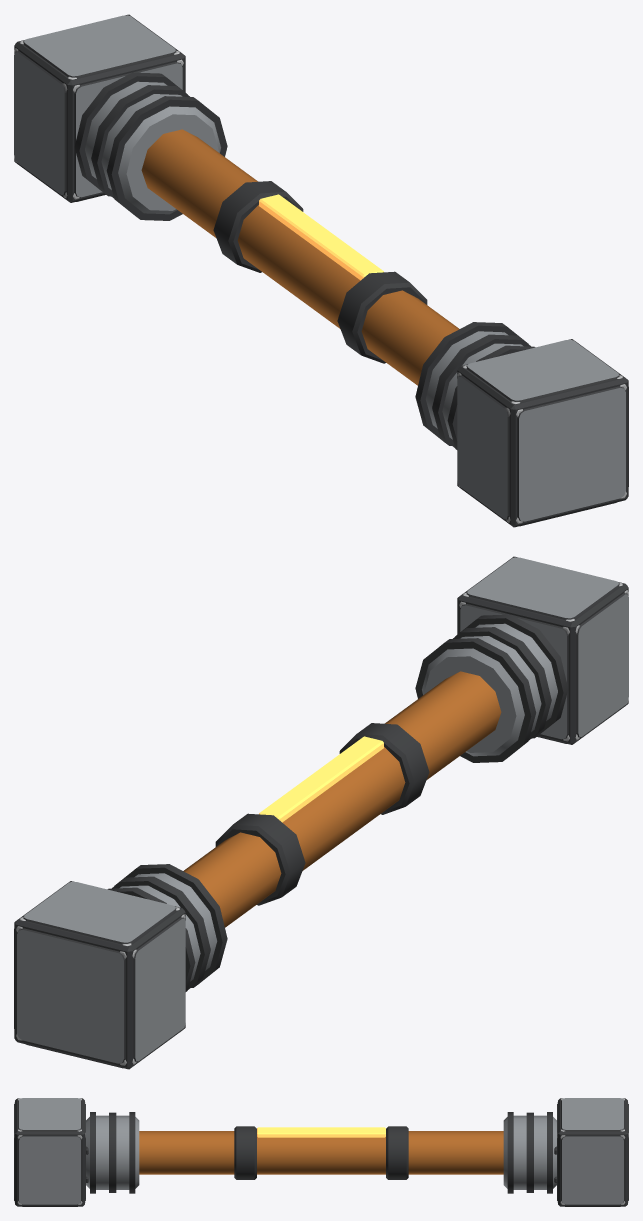
The model's file is R4C_ROD_STANDARD.fbx.
The picture shows the model from 3 angles, top to bottom: view 1: azimuth 30°, elevation 25°; view 2: azimuth 150°, elevation 25°; view 3: azimuth 270°, elevation 25°; orthographic projection. The views are drawn at different scales.
Visible parts, largest first — view 1: R4C_ROD_STANDARD; view 2: R4C_ROD_STANDARD; view 3: R4C_ROD_STANDARD.
Part boxes in pixels (left/top/right/bottom): R4C_ROD_STANDARD: left=14, top=14, right=628, bottom=527; R4C_ROD_STANDARD: left=14, top=556, right=628, bottom=1069; R4C_ROD_STANDARD: left=14, top=1098, right=628, bottom=1206.
Size of the model in its own units: 0.226 by 0.224 by 1.62.
